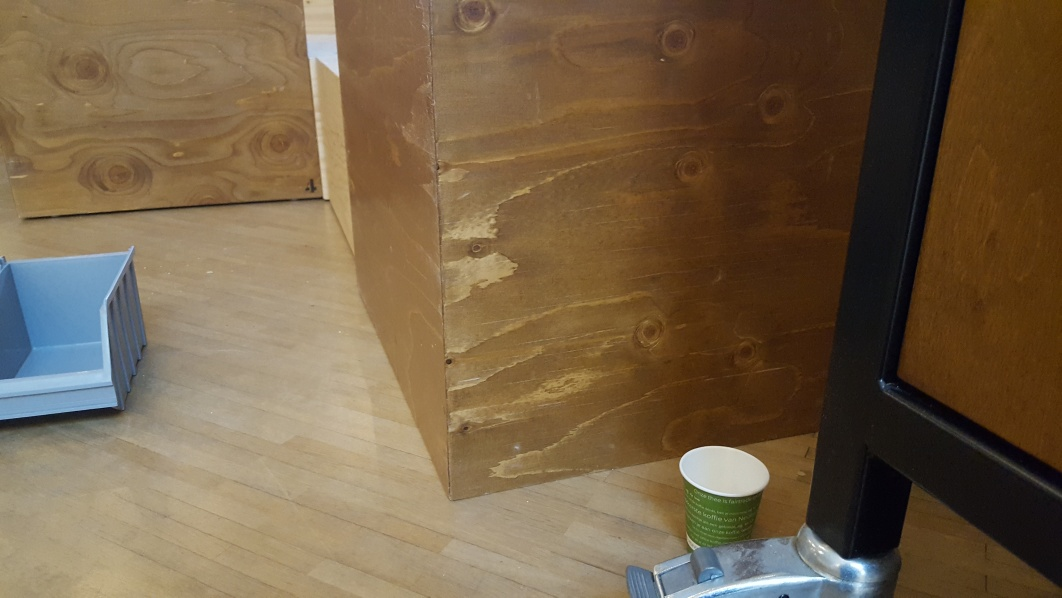cup: (678, 443, 769, 549)
tray: (1, 241, 140, 421)
